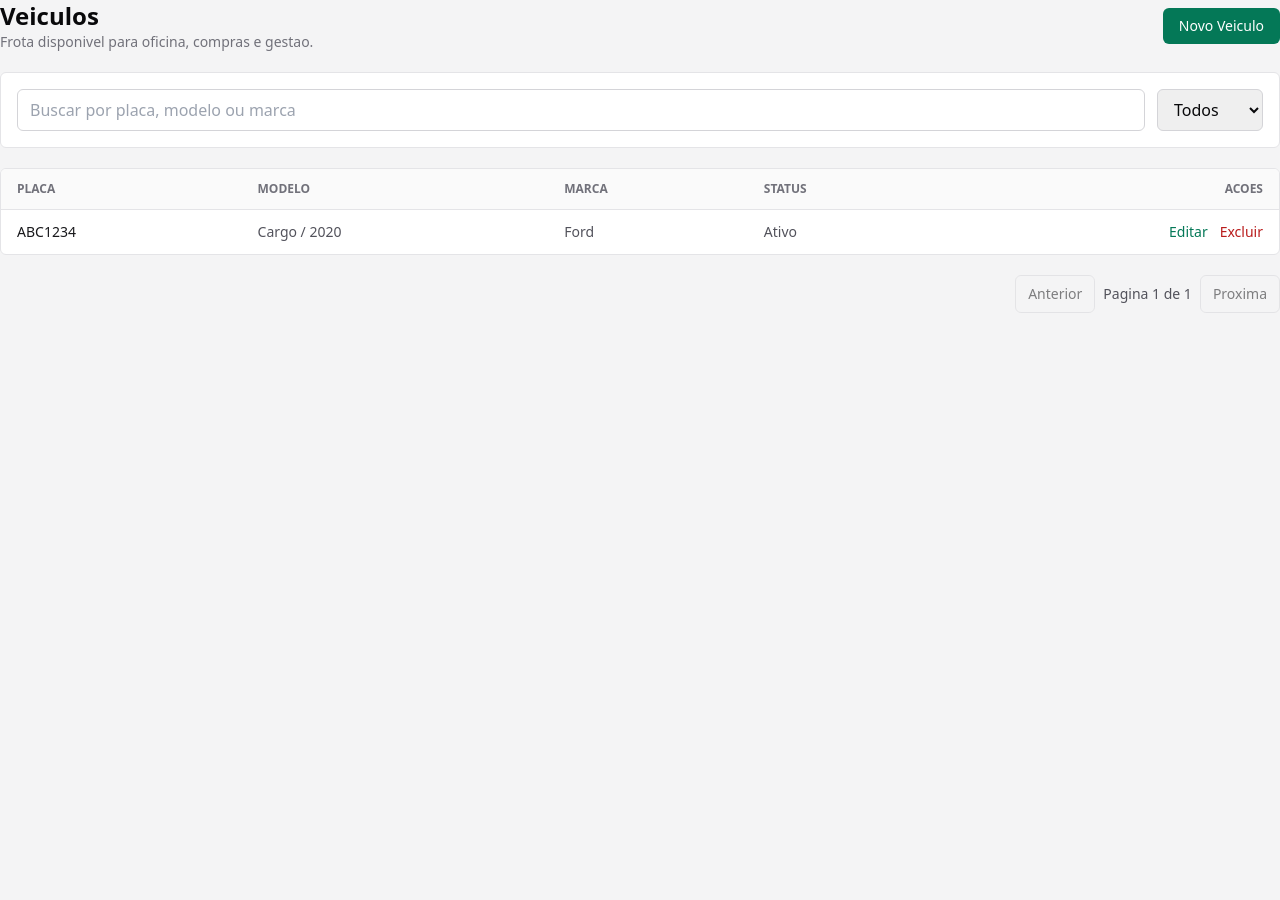
Scenario: VeiculosPage › abre modal ao clicar em Novo Veiculo
Click the button "Novo Veiculo".
click(1221, 26)  # box [1163, 8, 1279, 44]
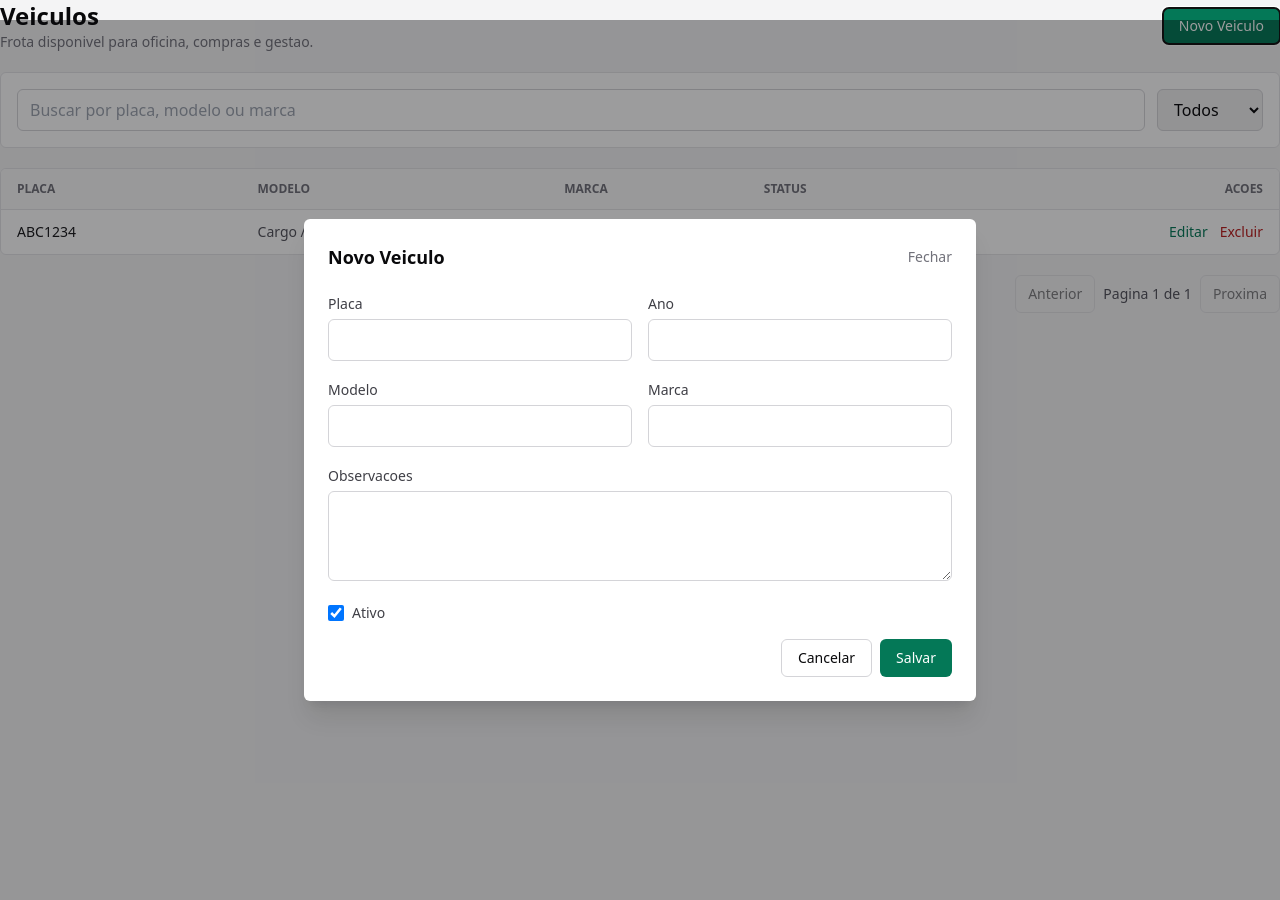
Expected: the heading "Novo Veiculo" is shown, [328, 243, 445, 271]
